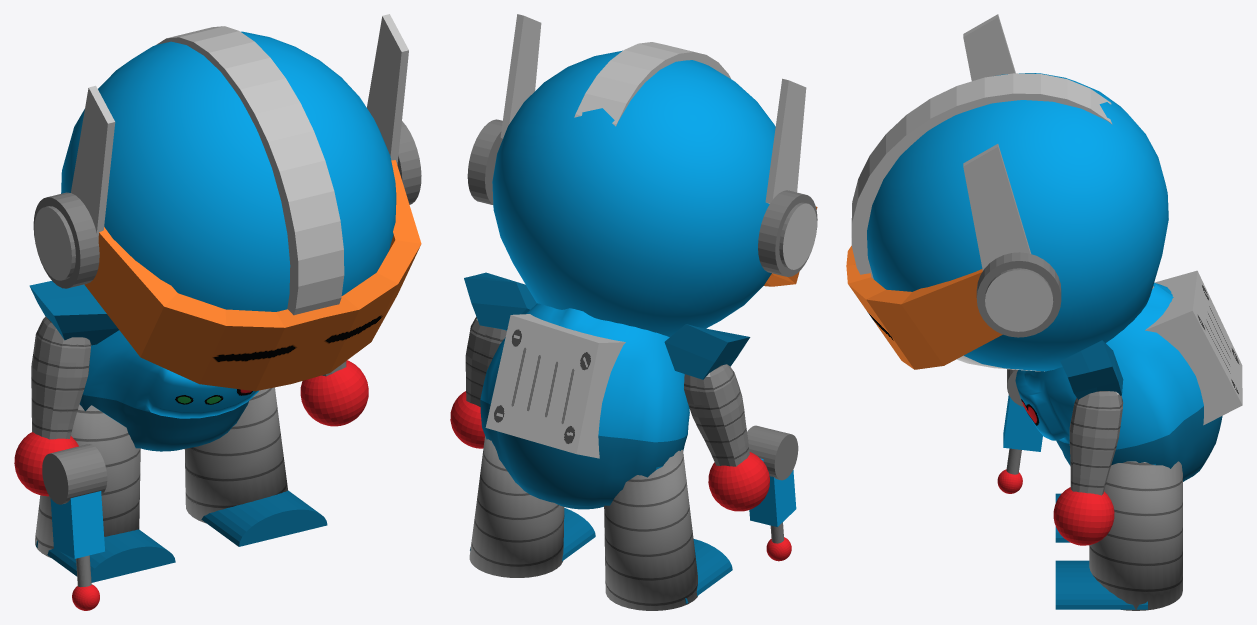
Rendered from Player_Static_Lose.fbx.
3 renders of one model, left to right at view 1: azimuth 30°, elevation 25°; view 2: azimuth 150°, elevation 25°; view 3: azimuth 270°, elevation 25°, orthographic. The views are drawn at different scales.
Visible parts, largest first — view 1: Head, Body, Visor, Head_M, Arm, Visor_Wing, Foot, Gun, Ear_R, Shoulder; view 2: Head, Body, BackPack, Arm, Ear_R, Visor_Wing, Shoulder, Head_M, Gun, Foot; view 3: Head, Body, Visor, Head_M, Arm, Visor_Wing, BackPack, Ear_R, Foot, Gun, Shoulder.
Part boxes in pixels (box(x1,y1,x2,y2)): Head: box(61, 31, 396, 311); Body: box(35, 330, 287, 557); Visor: box(84, 160, 421, 391); Head_M: box(156, 26, 344, 315); Arm: box(14, 316, 368, 496); Visor_Wing: box(71, 14, 408, 241); Foot: box(36, 490, 327, 582); Gun: box(42, 444, 107, 610); Ear_R: box(33, 121, 421, 288); Shoulder: box(29, 281, 118, 345); Head: box(492, 50, 775, 336); Body: box(469, 303, 697, 610); BackPack: box(485, 314, 625, 458); Arm: box(450, 316, 769, 511); Ear_R: box(467, 119, 817, 276); Visor_Wing: box(500, 14, 806, 203); Shoulder: box(464, 272, 750, 379); Head_M: box(574, 42, 730, 126); Gun: box(747, 425, 798, 561); Foot: box(470, 508, 732, 603); Head: box(867, 73, 1168, 371); Body: box(1015, 282, 1222, 610); Visor: box(846, 246, 1002, 369); Head_M: box(851, 73, 1112, 278); Arm: box(1053, 391, 1123, 545); Visor_Wing: box(963, 14, 1031, 270); BackPack: box(1145, 270, 1242, 425); Ear_R: box(976, 252, 1061, 337); Foot: box(1055, 493, 1147, 609); Gun: box(997, 369, 1042, 493); Shoulder: box(1060, 340, 1123, 399).
Size of the model in its own units: 1.43 by 2.08 by 1.56.
